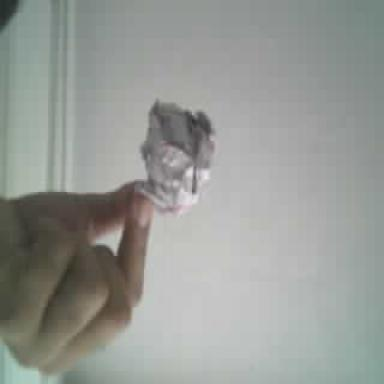paper: (138, 101, 215, 213)
